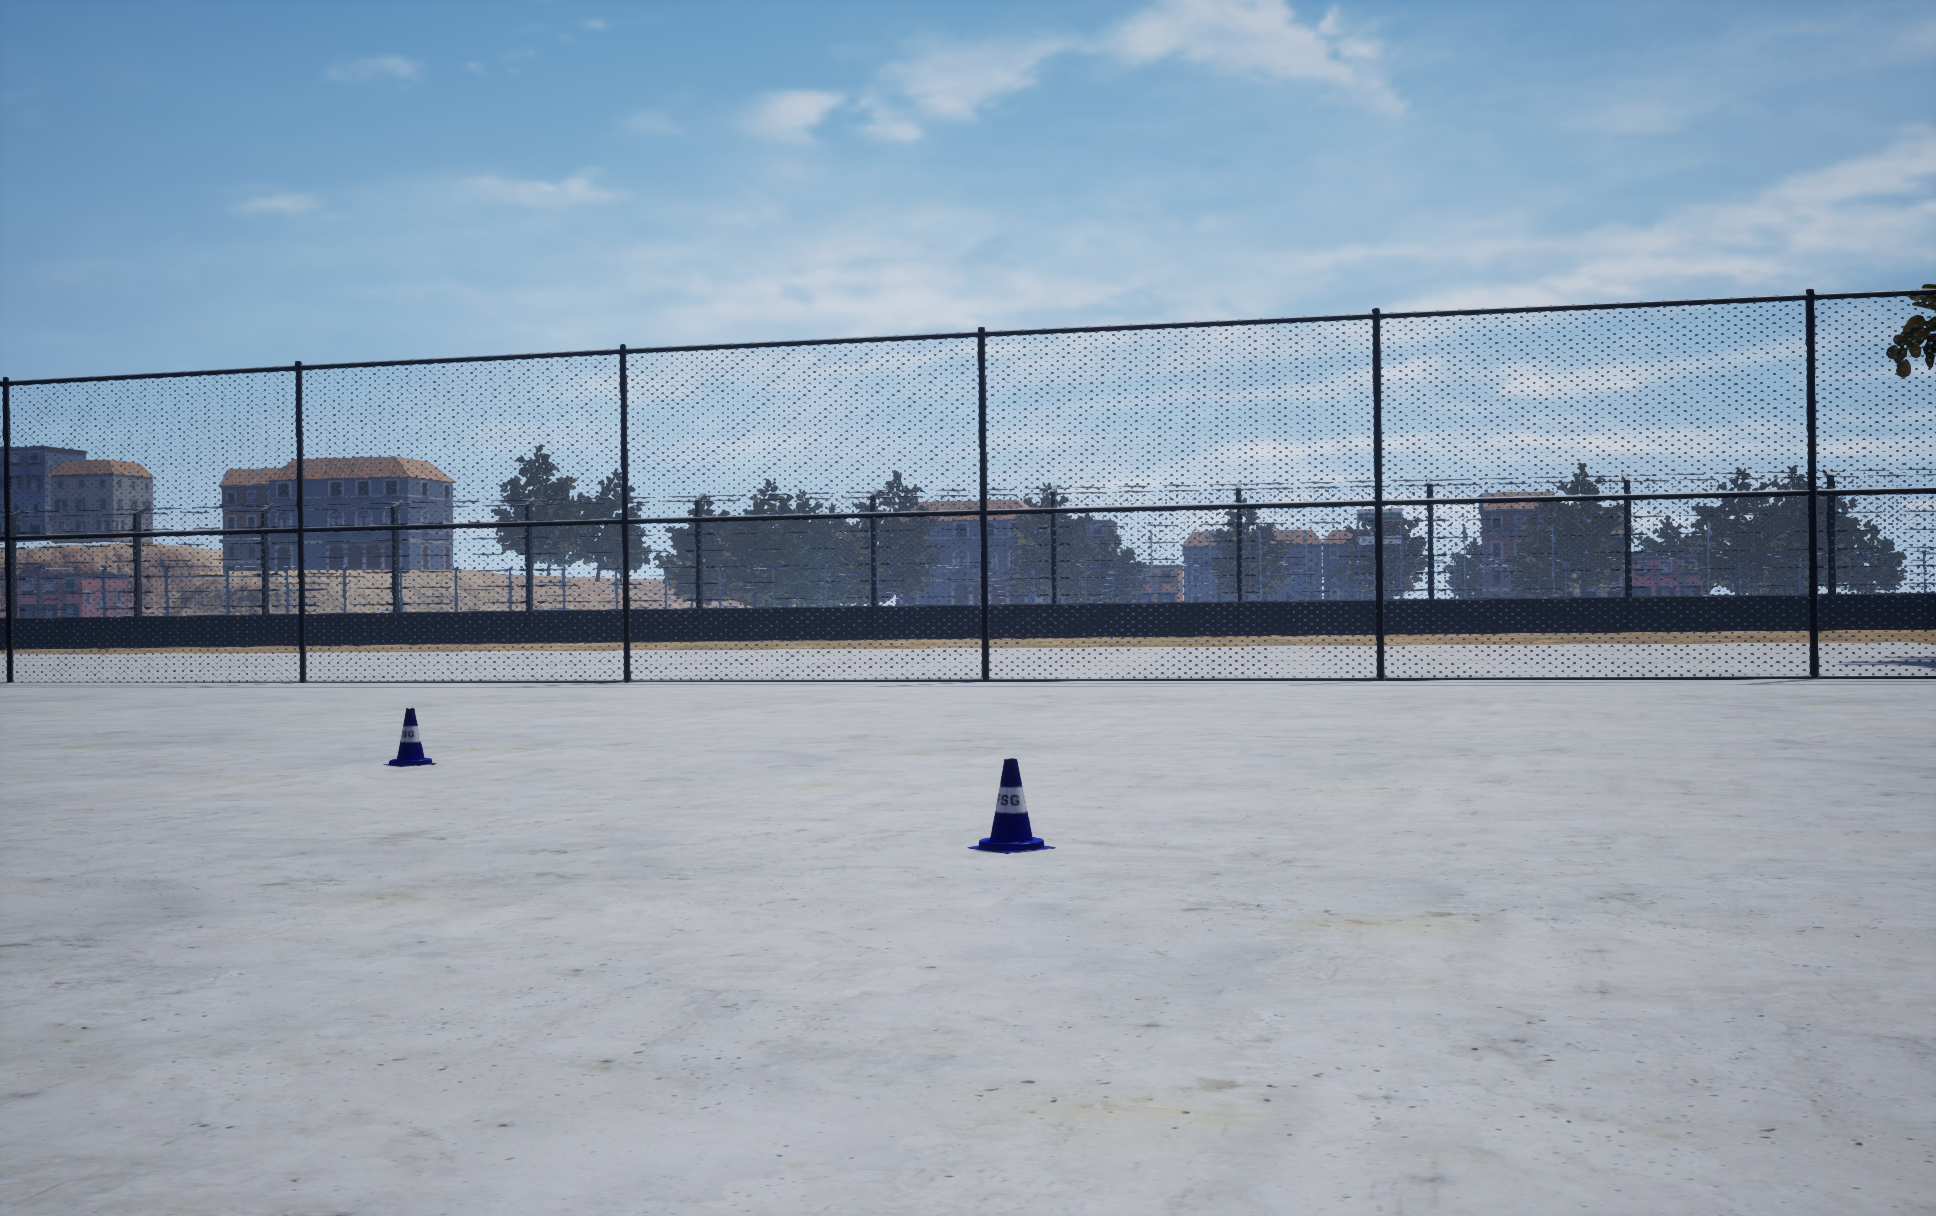yellow: (967, 758, 1055, 853), (382, 707, 436, 766)
